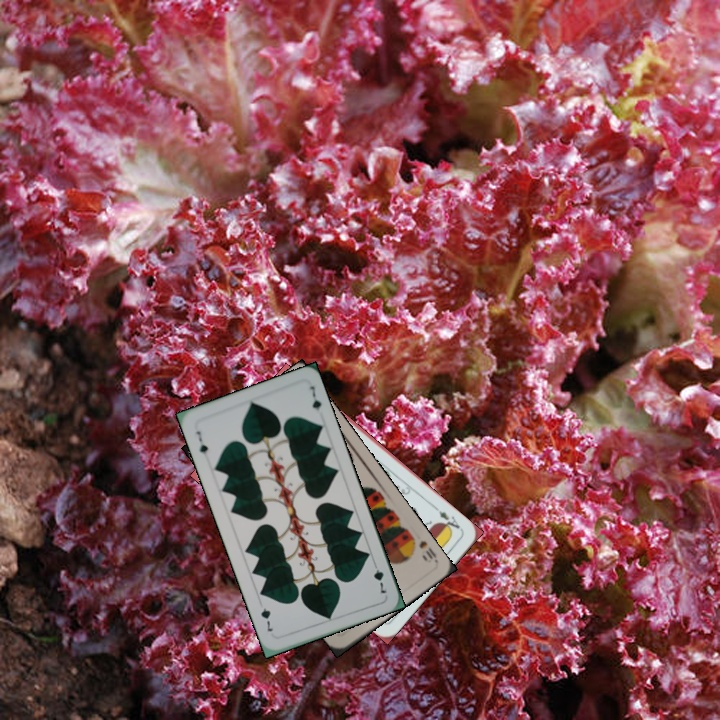EA: (430, 502, 464, 534)
G7: (369, 557, 389, 596), (192, 427, 211, 457)
S10: (406, 532, 440, 565)
